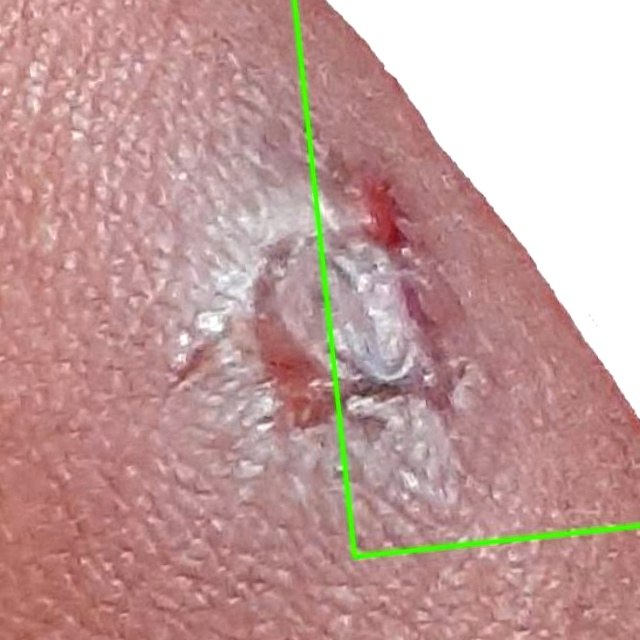Contact Dermatitis: (294, 0, 639, 558)
